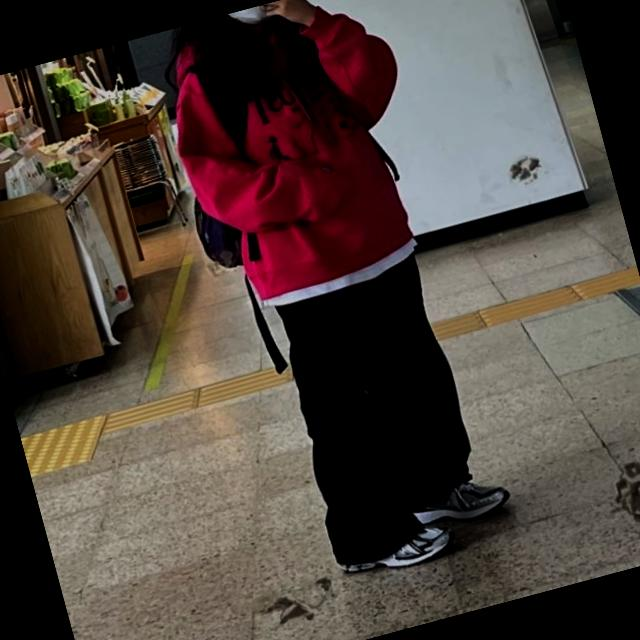cottonpants: (266, 245, 502, 568)
hoodies: (145, 0, 444, 307)
